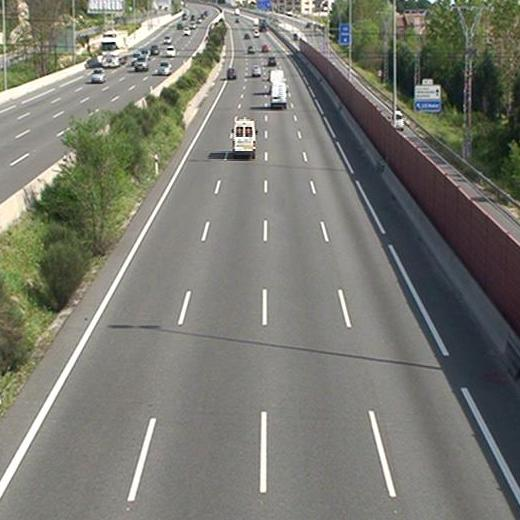car: (226, 67, 237, 80), (266, 56, 277, 66), (252, 65, 261, 77)
van: (230, 120, 257, 156), (269, 80, 288, 107)
